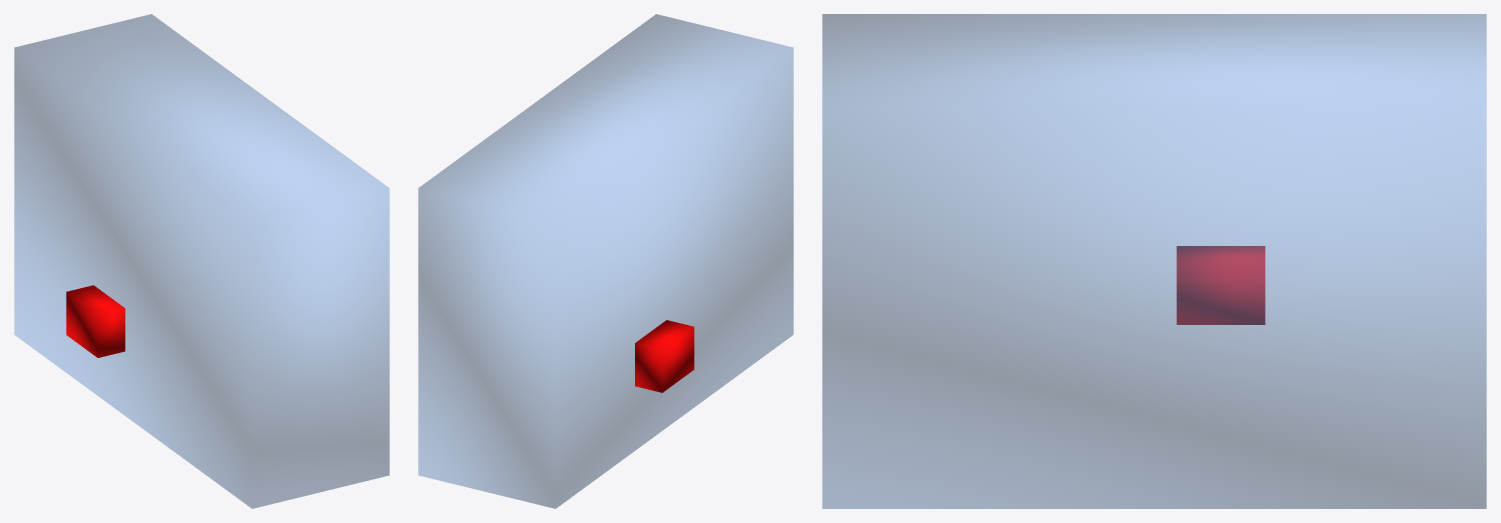
File: python_multi_object.glb
3 views of the same model, side by side, from view 1: azimuth 30°, elevation 25°; view 2: azimuth 150°, elevation 25°; view 3: azimuth 270°, elevation 25° (orthographic). The views are drawn at different scales.
Parts seen in each view (by area): view 1: First part, Second part; view 2: First part, Second part; view 3: First part, Second part.
Boxes of the visible parts, x1,y1,x2,y2 form: First part: [14, 14, 389, 508]; Second part: [66, 285, 125, 357]; First part: [418, 14, 793, 508]; Second part: [635, 320, 694, 392]; First part: [822, 14, 1486, 508]; Second part: [1176, 246, 1265, 324].
Bounding box in the file's own units: 0.012 × 0.02 × 0.03.
